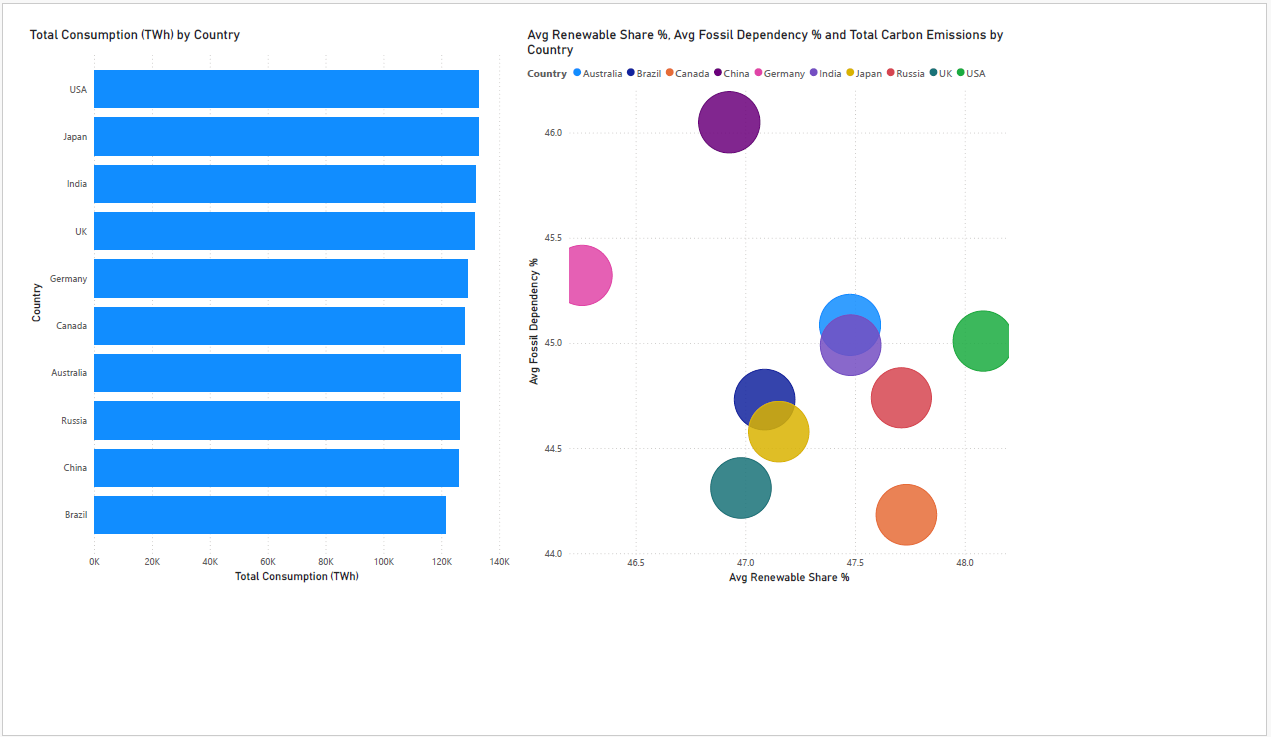

The page's visual inventory and layout, read from the dashboard file:
{"tool":"powerbi","page":{"name":"Country Comparison","canvas":[1280,720],"ordinal":2},"visuals":[{"type":"clusteredBarChart","fields":{"Y":["global_energy_consumption.Total Consumption (TWh)"],"Category":["global_energy_consumption.Country"]},"box":[0,0,627.5,719.7],"z":0},{"type":"scatterChart","fields":{"X":["global_energy_consumption.Avg Renewable Share %"],"Y":["global_energy_consumption.Avg Fossil Dependency %"],"Series":["global_energy_consumption.Country"],"Size":["global_energy_consumption.Total Carbon Emissions"]},"box":[639.5,0,640.8,720.2],"z":1}]}

Visuals, with their boxes in screenshot pixels (x1, y1, x2, y2), scaled from the page's 1280x720 canvas onto the 1271x737 screenshot:
clusteredBarChart - global_energy_consumption.Total Consumption (TWh) x global_energy_consumption.Country: detection(0, 0, 623, 736)
scatterChart - global_energy_consumption.Avg Renewable Share % x global_energy_consumption.Avg Fossil Dependency %: detection(635, 0, 1270, 736)
